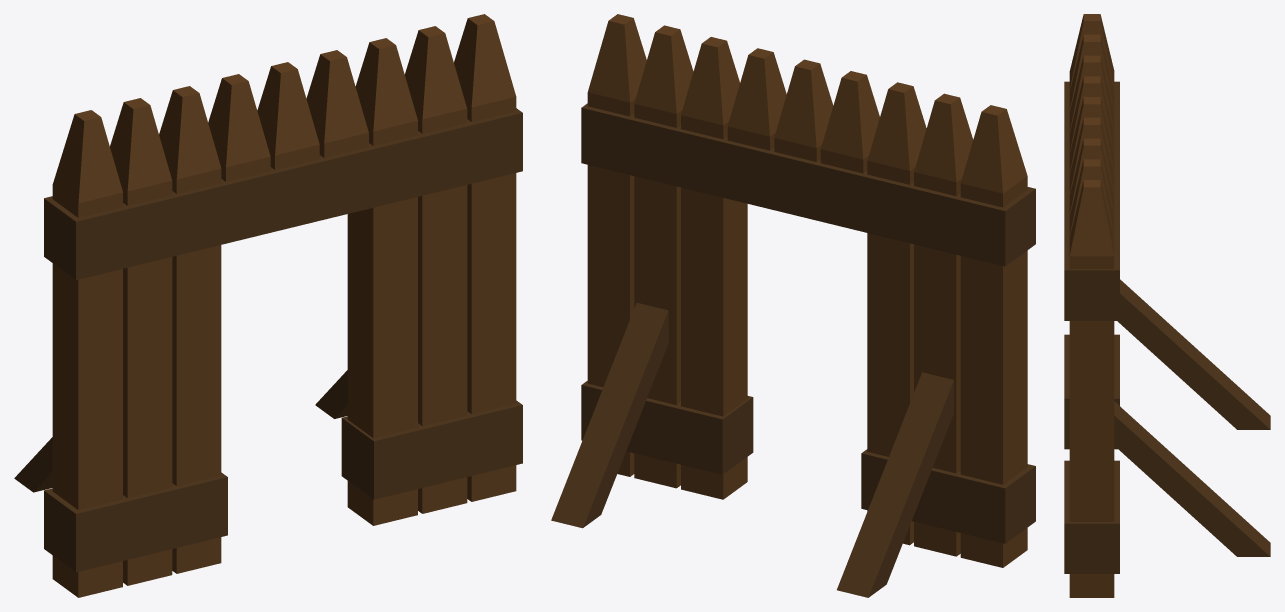
Rendered from Wooden_Highwall_Gate.fbx.
3 renders of one model, left to right at view 1: azimuth 30°, elevation 25°; view 2: azimuth 150°, elevation 25°; view 3: azimuth 270°, elevation 25°, orthographic. The views are drawn at different scales.
Visible parts, largest first — view 1: HighWall_Gate; view 2: HighWall_Gate; view 3: HighWall_Gate.
Boxes of the visible parts, left/top/right/bottom form: HighWall_Gate: left=14, top=14, right=522, bottom=597; HighWall_Gate: left=551, top=14, right=1035, bottom=597; HighWall_Gate: left=1064, top=14, right=1270, bottom=597.
Size of what is drawn, in the model's own units: 800 by 800 by 370.
